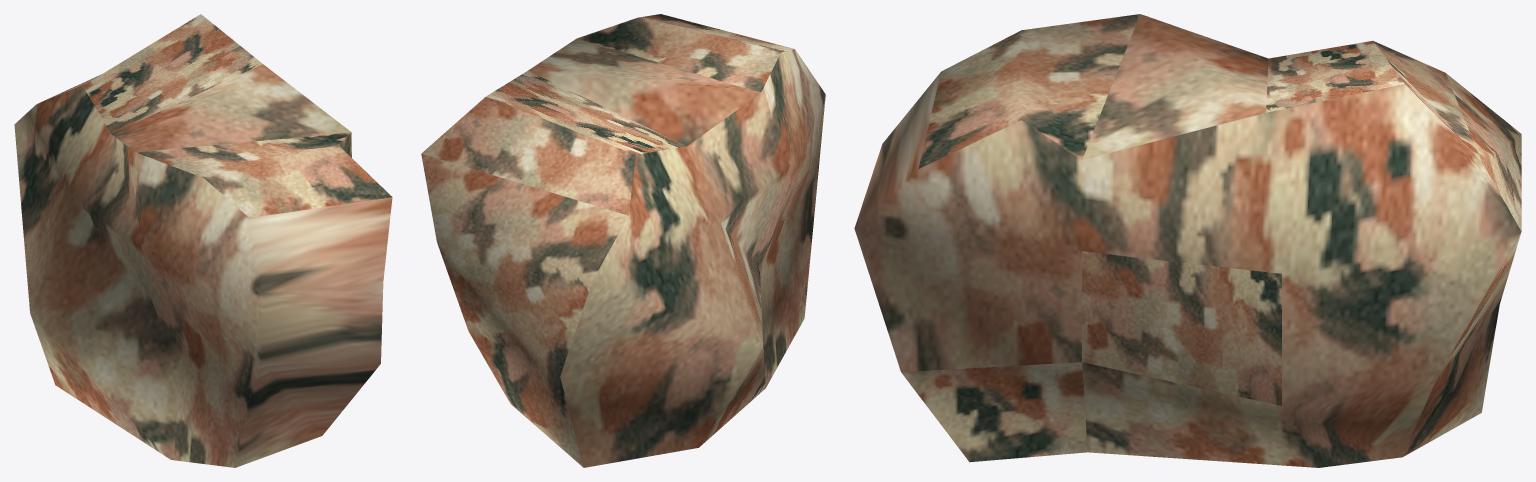
The model's file is granite.fbx.
The picture shows the model from 3 angles, left to right: view 1: azimuth 30°, elevation 25°; view 2: azimuth 150°, elevation 25°; view 3: azimuth 270°, elevation 25°; orthographic projection. The views are drawn at different scales.
Visible parts, largest first — view 1: granite; view 2: granite; view 3: granite.
Part boxes in pixels (box(x1,y1,x2,y2)): granite: box(14, 14, 392, 467); granite: box(421, 14, 825, 467); granite: box(854, 14, 1521, 467).
Size of the model in its own units: 42.81 by 47.03 by 64.21.
